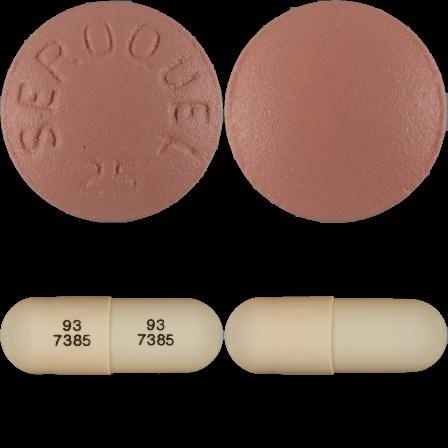63629-3319: (0, 0, 224, 224)
